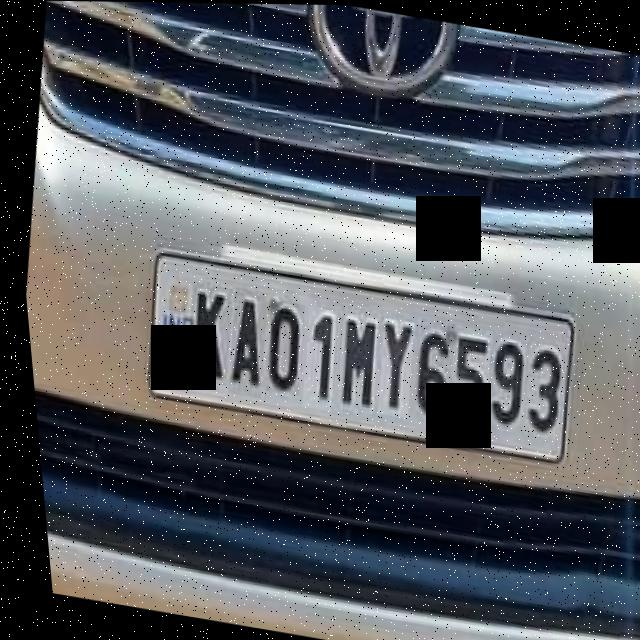0: (252, 299, 306, 395)
1: (287, 305, 339, 411)
3: (510, 340, 565, 439)
5: (434, 324, 493, 425)
6: (398, 317, 454, 428)
9: (476, 336, 527, 430)
A: (213, 286, 269, 398)
K: (173, 282, 235, 385)
M: (322, 310, 381, 414)
Y: (363, 317, 415, 419)
